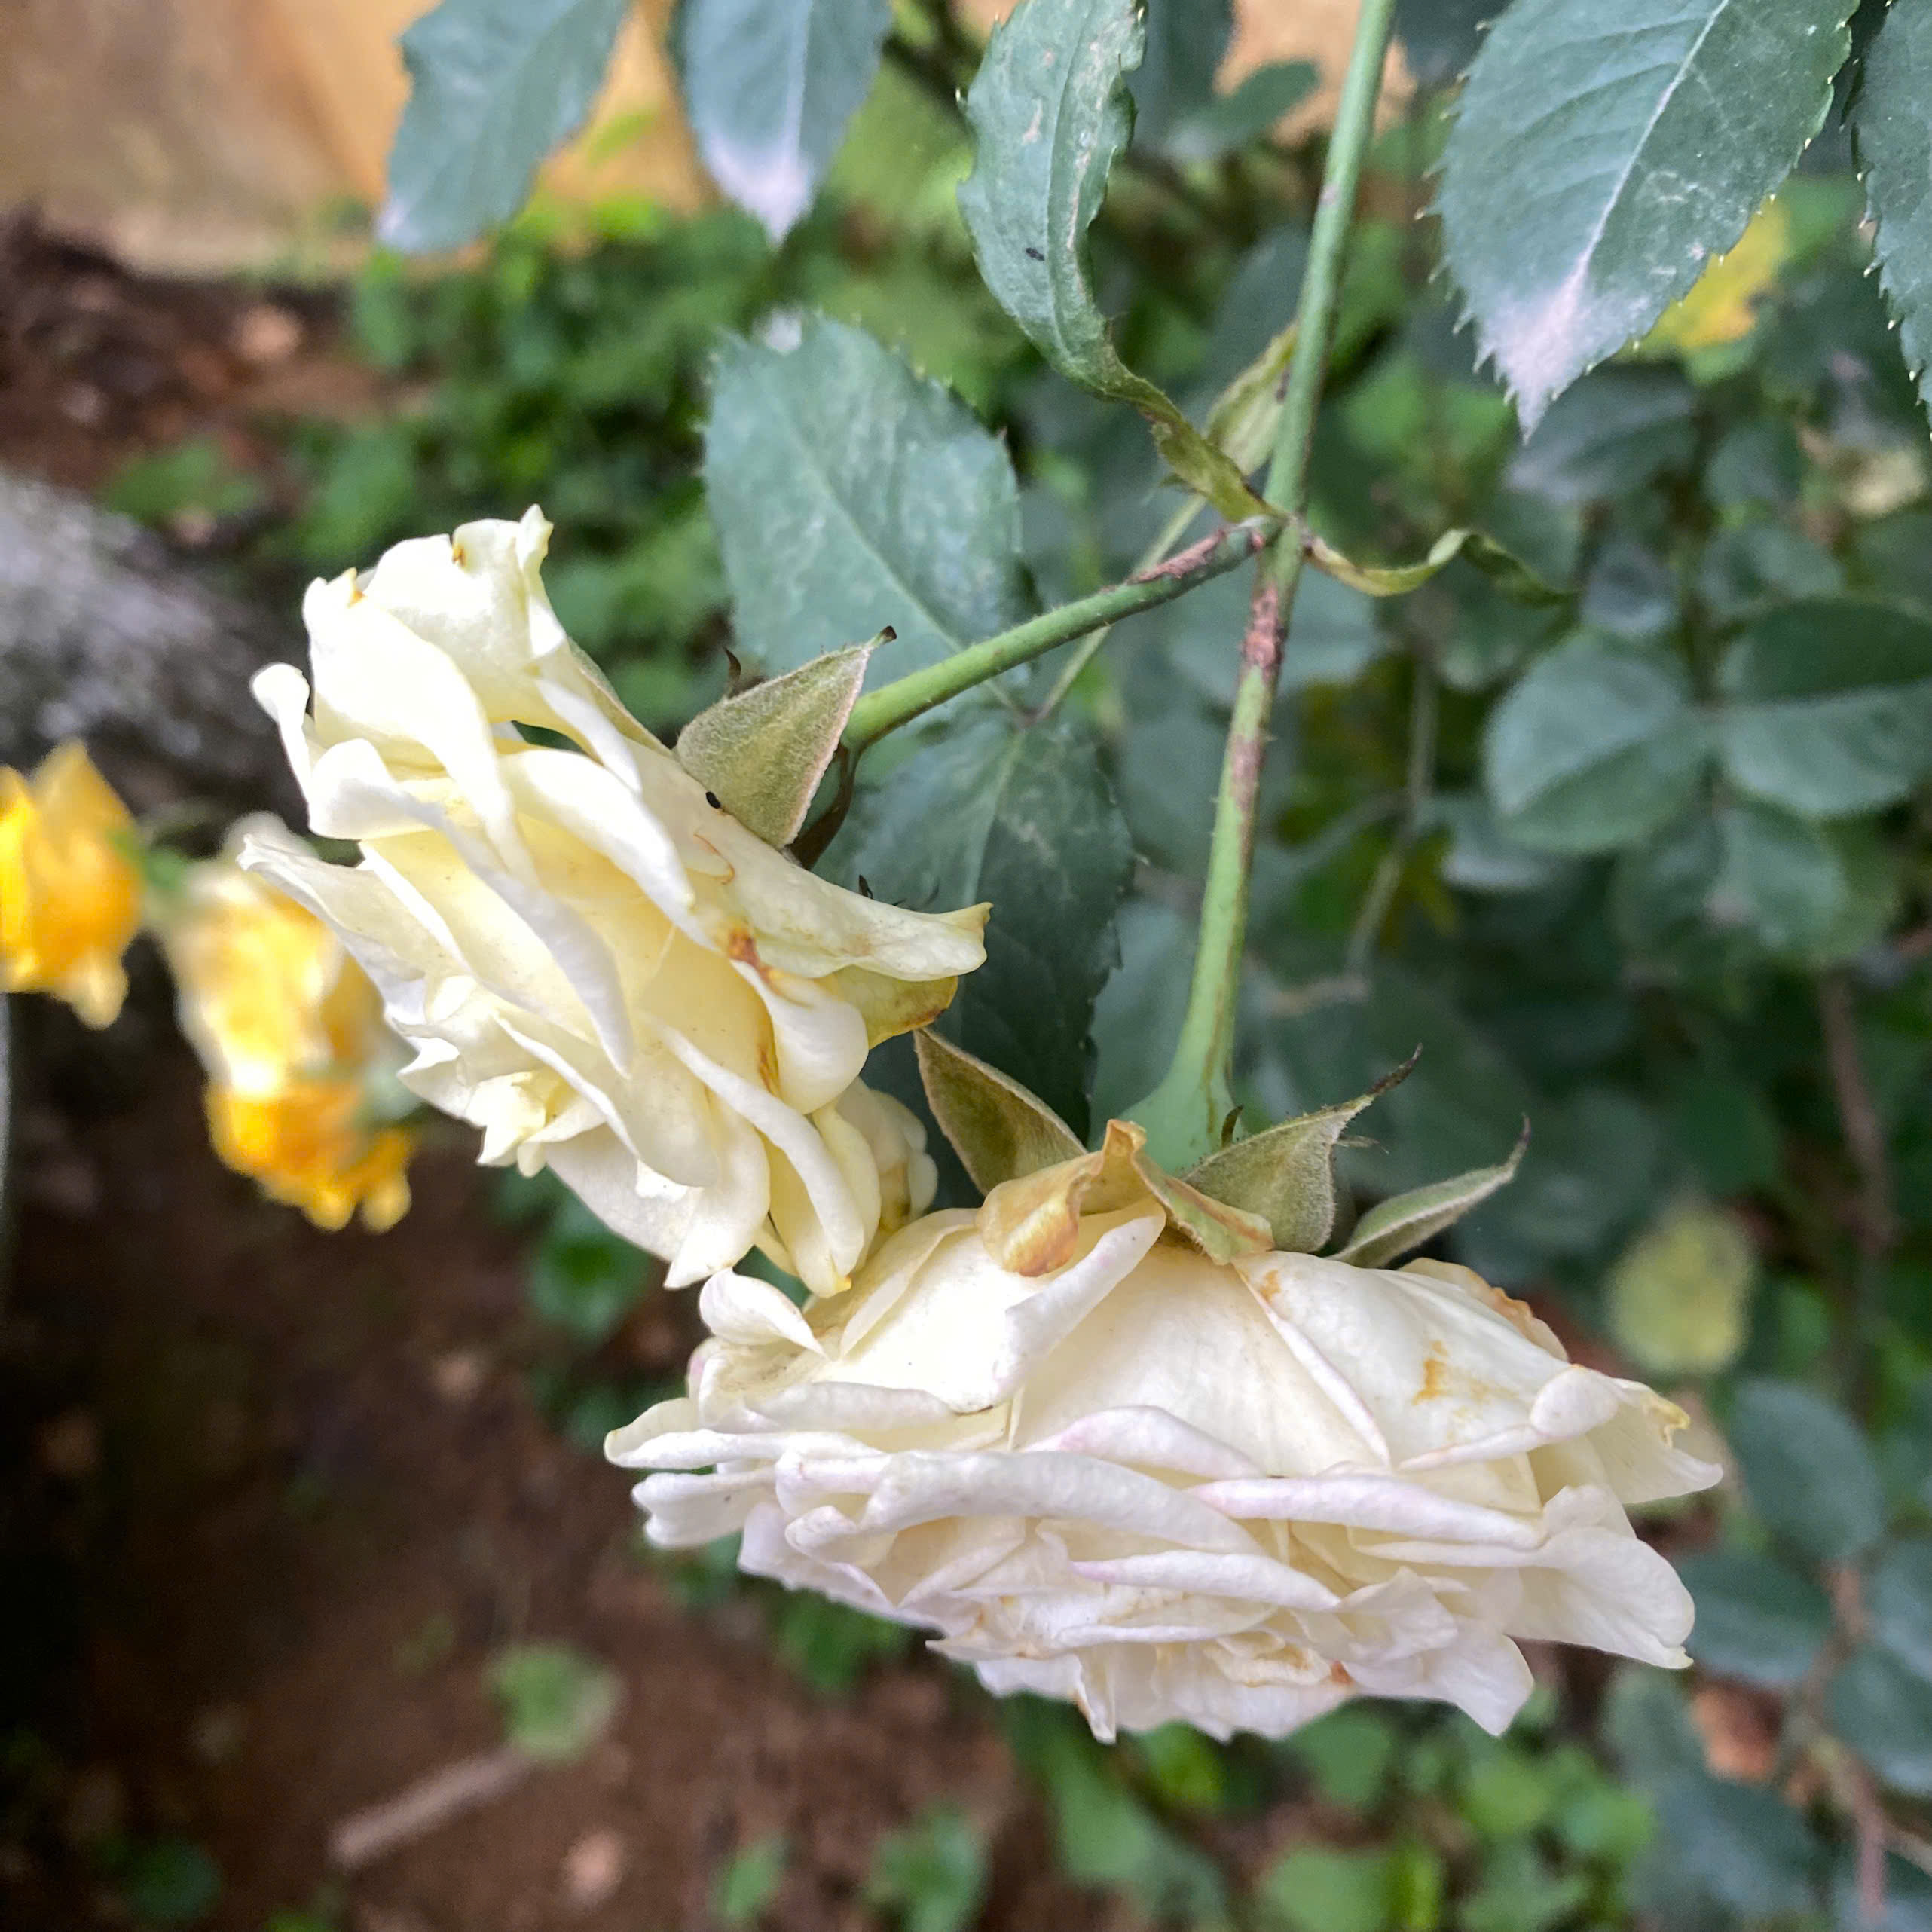hoa_thuoc_duoc: (219, 430, 1835, 1780)
